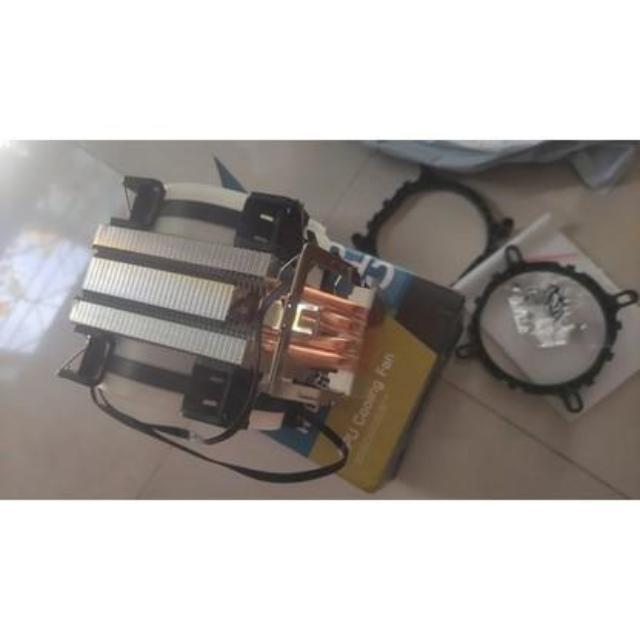CPU_Fan: (55, 172, 377, 460)
